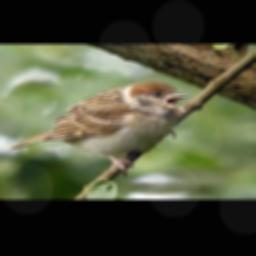Sparrow: (10, 79, 191, 178)
